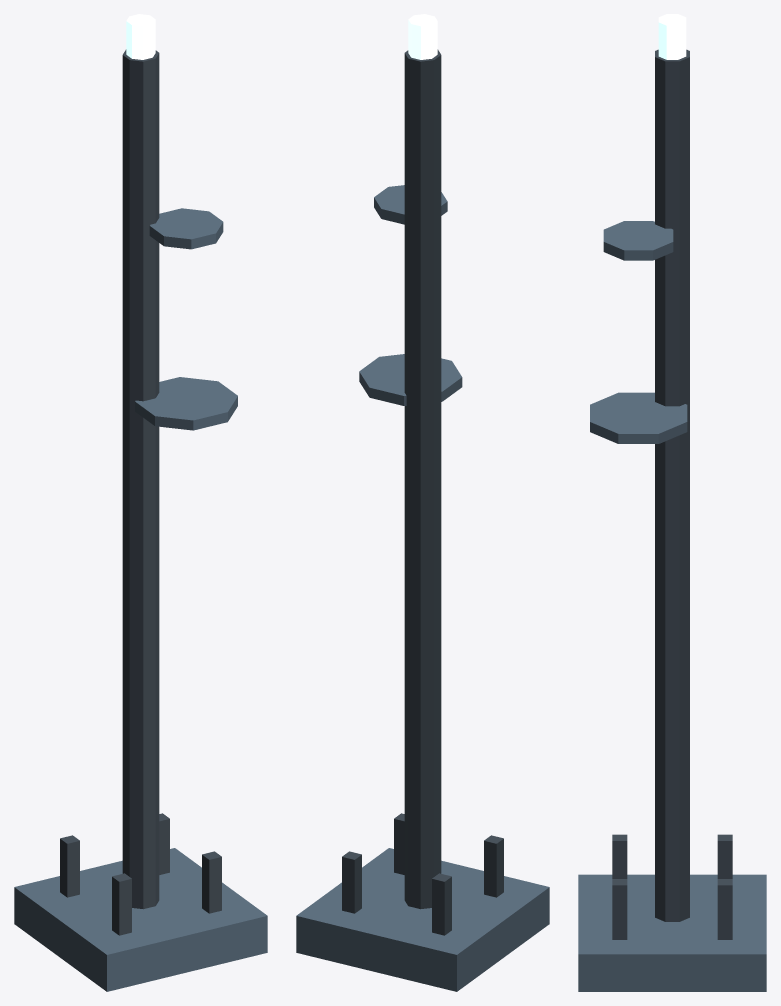
Rendered from shaddai_dist_arctic_b4_v01.glb.
3 renders of one model, left to right at view 1: azimuth 30°, elevation 25°; view 2: azimuth 150°, elevation 25°; view 3: azimuth 270°, elevation 25°, orthographic.
Parts seen in each view (by area): view 1: shaddai_dist_arctic_b4; view 2: shaddai_dist_arctic_b4; view 3: shaddai_dist_arctic_b4.
Boxes of the visible parts, box(x1,y1,x2,y2) form: shaddai_dist_arctic_b4: box(14, 14, 267, 991); shaddai_dist_arctic_b4: box(296, 14, 549, 991); shaddai_dist_arctic_b4: box(578, 14, 766, 991).
Size of the model in its own units: 5 by 27.3 by 5.
